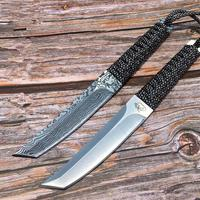knife: (10, 23, 191, 192)
